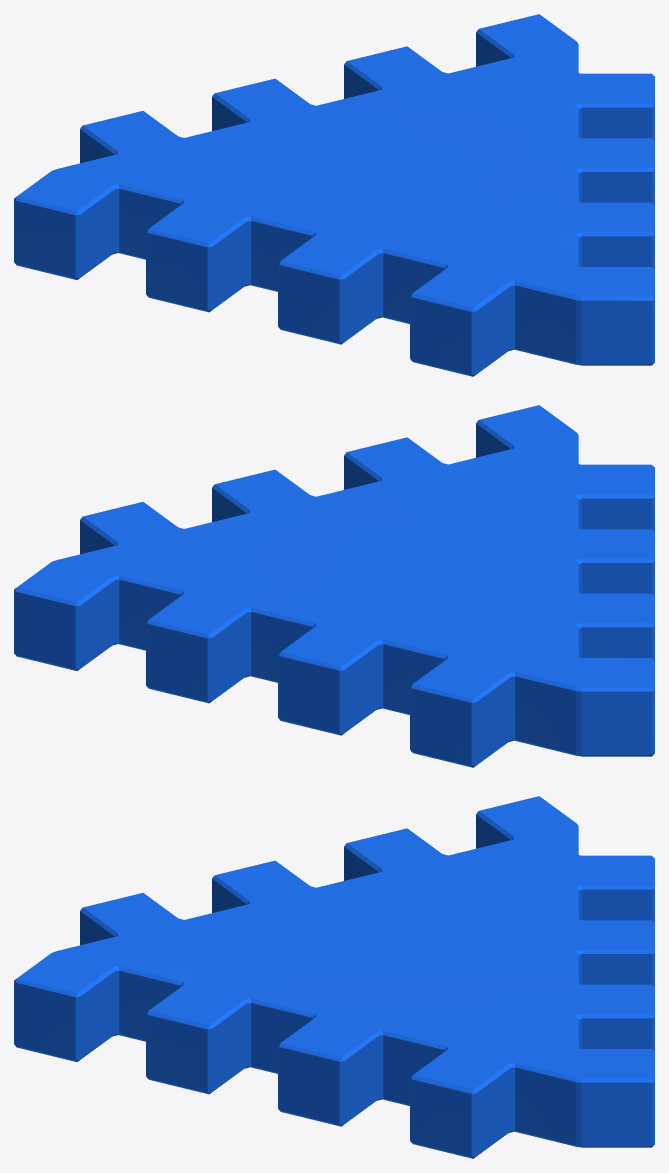
Rendered from BlueTriangle.fbx.
The picture shows the model from 3 angles, top to bottom: view 1: azimuth 30°, elevation 25°; view 2: azimuth 150°, elevation 25°; view 3: azimuth 270°, elevation 25°; orthographic projection.
Parts seen in each view (by area): view 1: BlueTriangle; view 2: BlueTriangle; view 3: BlueTriangle.
Boxes of the visible parts, left/top/right/bottom form: BlueTriangle: left=14, top=14, right=654, bottom=376; BlueTriangle: left=14, top=405, right=654, bottom=767; BlueTriangle: left=14, top=796, right=654, bottom=1158.
Bounding box in the file's own units: 4.59 × 0.4992 × 4.2.
